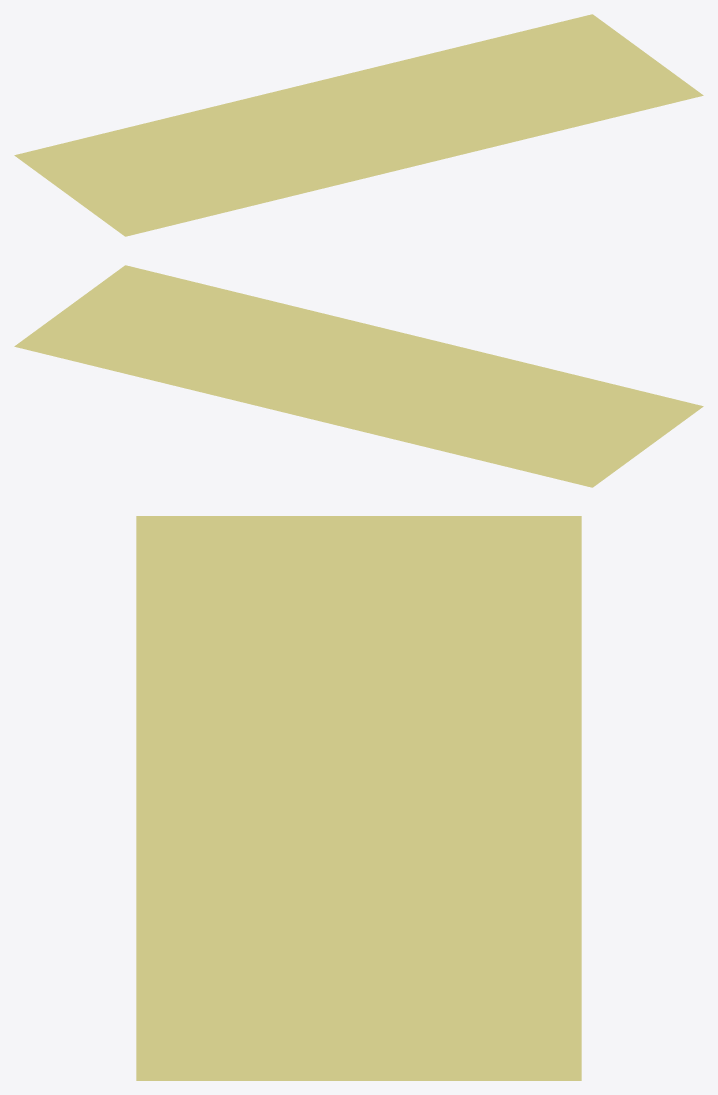
File: Ceiling_3x_1x.FBX
3 renders of one model, top to bottom at view 1: azimuth 30°, elevation 25°; view 2: azimuth 150°, elevation 25°; view 3: azimuth 270°, elevation 25°, orthographic. The views are drawn at different scales.
Parts seen in each view (by area): view 1: Ceiling_3x_1x; view 2: Ceiling_3x_1x; view 3: Ceiling_3x_1x.
Boxes of the visible parts, x1,y1,x2,y2 form: Ceiling_3x_1x: (14,14,703,236); Ceiling_3x_1x: (14,265,703,487); Ceiling_3x_1x: (136,516,581,1080).
Size of the model in its own units: 300 by 100 by 4.37e-06.
